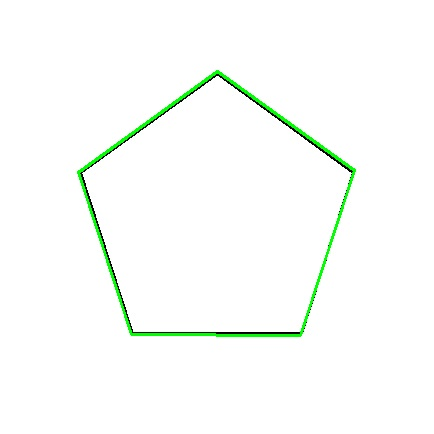line_segment: (78, 71, 355, 336)
